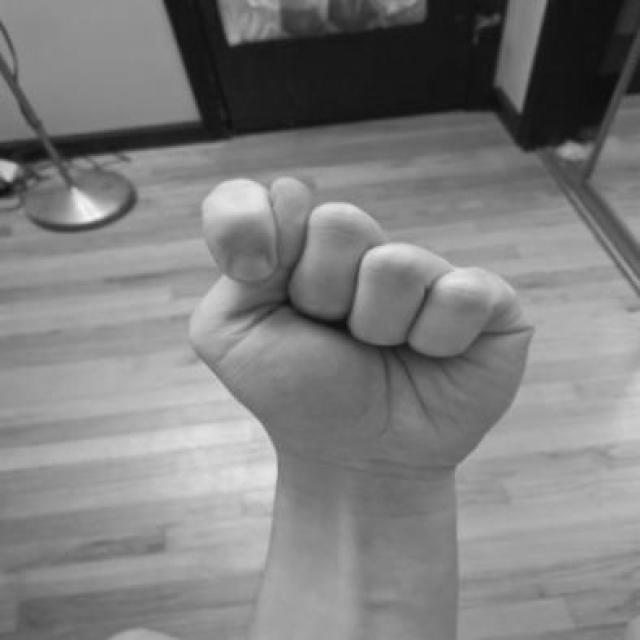T: (166, 168, 545, 488)
